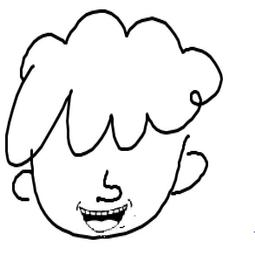ear: (166, 146, 212, 201), (8, 169, 43, 205)
nose: (90, 167, 125, 204)
open_mouth: (78, 201, 129, 236)
